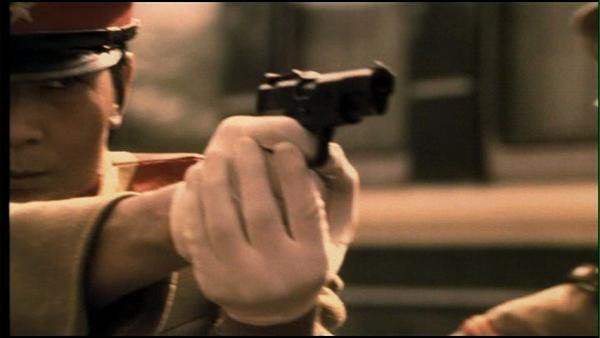Gun: (262, 62, 398, 158)
